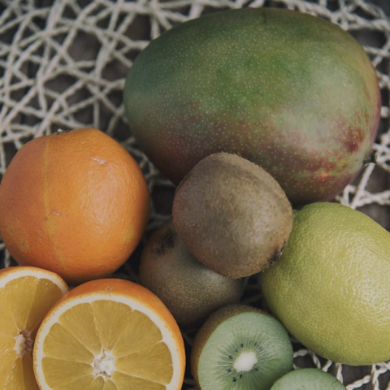kiwi: (95, 4, 390, 202), (173, 147, 291, 280)
orange: (0, 123, 154, 278)
